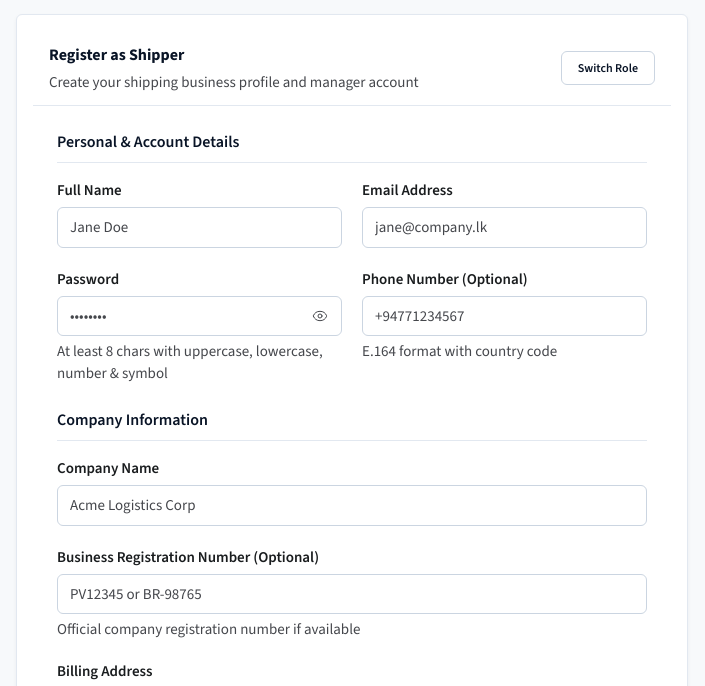
Scenario: RegisterPage — Shipper Registration Form › validates password requirements and phone format in advance
Type "weak" into the password field labelled "Password" at (200, 316), box [57,296,342,336]
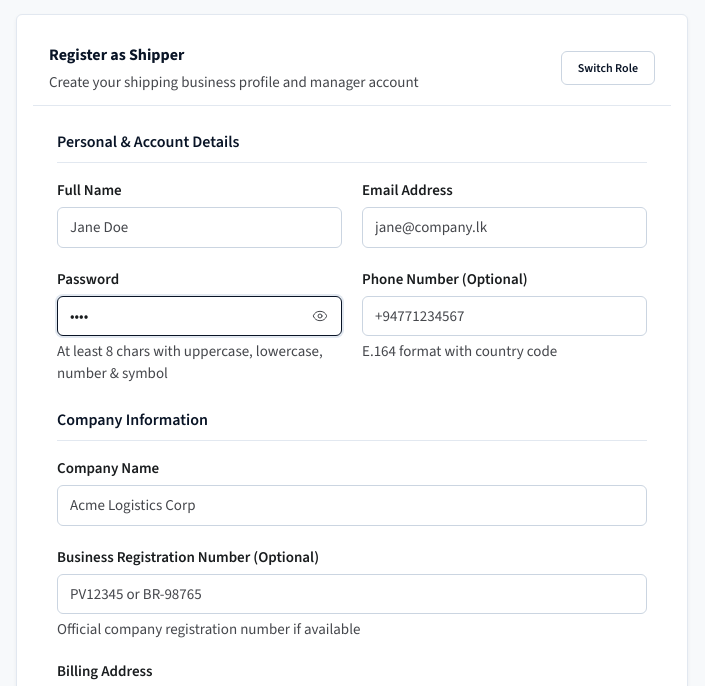
Type "0771234567" into the field labelled "Phone Number (Optional)" at (504, 316), box [362,296,647,336]
(page scrolled)
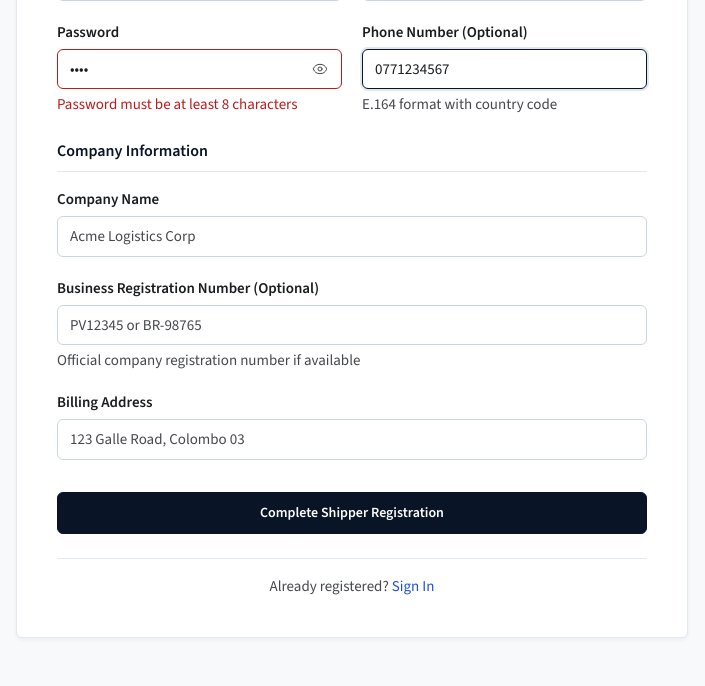
Click the button "Complete Shipper Registration" at (352, 512), box [57,492,647,534]
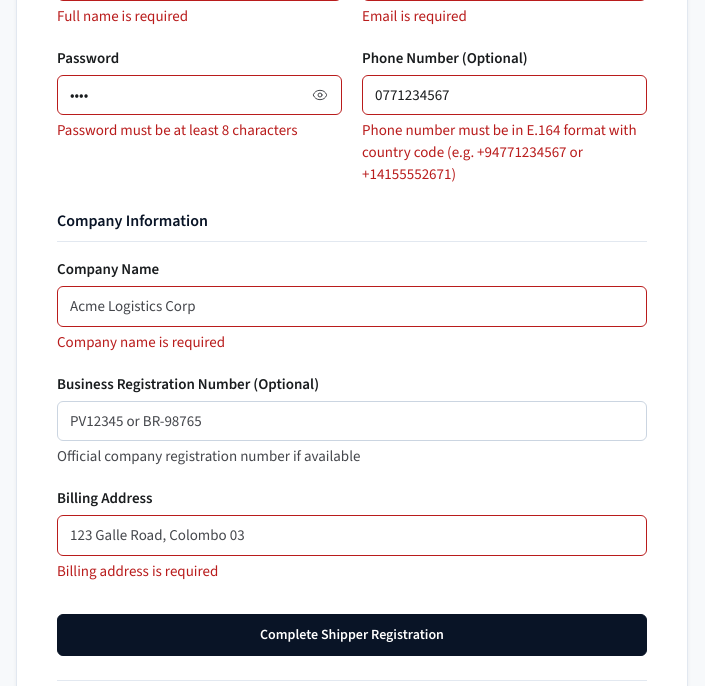
Check: the text "Password must be at least 8 characters" is shown, box [57,120,298,140]
Check: the text "Phone number must be in E.164 format" is shown, box [362,120,637,184]
